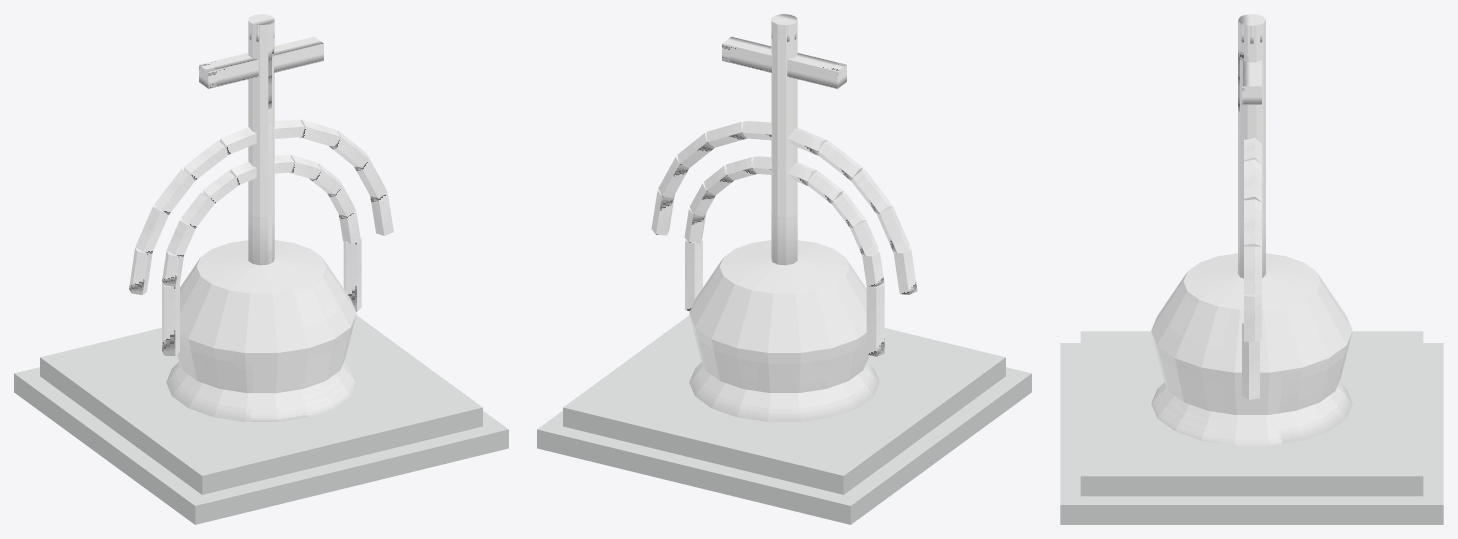
Rendered from Building_SculptureGrand__E.glb.
3 renders of one model, left to right at view 1: azimuth 30°, elevation 25°; view 2: azimuth 150°, elevation 25°; view 3: azimuth 270°, elevation 25°, orthographic. The views are drawn at different scales.
Visible parts, largest first — view 1: SculptureGrand__E; view 2: SculptureGrand__E; view 3: SculptureGrand__E.
Boxes of the visible parts, left/top/right/bottom form: SculptureGrand__E: left=14, top=14, right=508, bottom=524; SculptureGrand__E: left=537, top=14, right=1031, bottom=524; SculptureGrand__E: left=1060, top=14, right=1443, bottom=524.
Size of the model in its own units: 1.9 by 2.32 by 1.9.
1 material, 1 textured.
